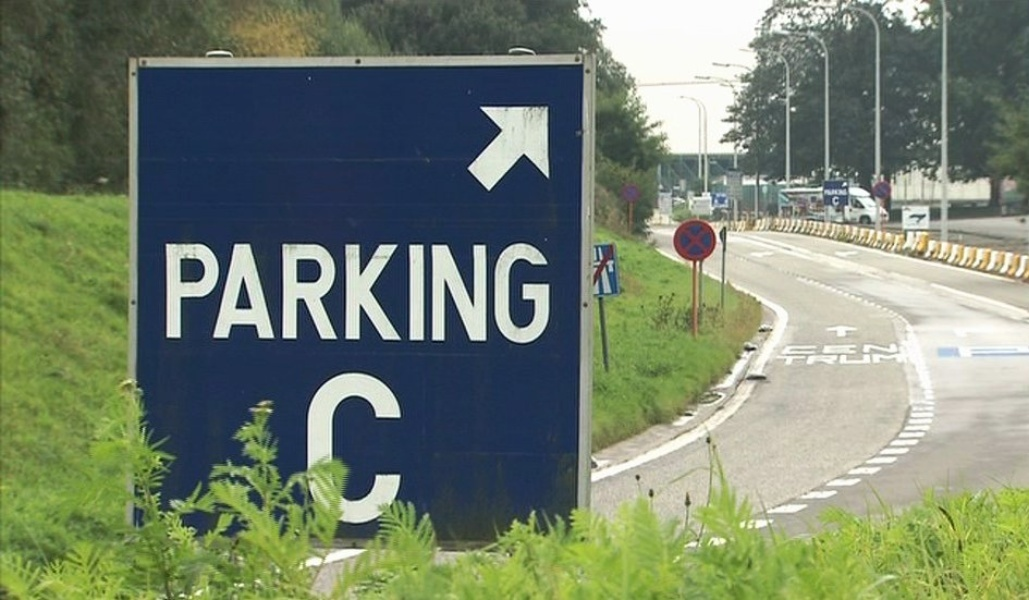text: (321, 371, 336, 524), (337, 371, 352, 524), (353, 371, 368, 524), (369, 371, 384, 524), (385, 371, 400, 524), (306, 371, 320, 524), (177, 241, 192, 345), (193, 241, 208, 345), (209, 241, 224, 345), (225, 241, 240, 345), (241, 241, 256, 345), (257, 241, 272, 345), (273, 241, 288, 345), (289, 241, 304, 345), (305, 241, 320, 345), (321, 241, 336, 345), (337, 241, 352, 345), (353, 241, 368, 345), (369, 241, 384, 345), (385, 241, 400, 345), (401, 241, 416, 345), (417, 241, 432, 345), (433, 241, 448, 345), (449, 241, 464, 345), (465, 241, 480, 345), (481, 241, 496, 345), (497, 241, 512, 345), (513, 241, 528, 345), (529, 241, 544, 345), (162, 241, 176, 345), (545, 241, 553, 345), (961, 344, 976, 363), (977, 344, 992, 363), (993, 344, 1008, 363), (1009, 344, 1024, 363), (785, 340, 800, 355), (801, 340, 816, 355), (817, 340, 832, 355), (833, 340, 848, 355), (849, 340, 864, 355), (865, 340, 880, 355), (881, 340, 896, 355), (785, 351, 800, 366), (801, 351, 816, 366), (817, 351, 832, 366), (833, 351, 848, 366), (849, 351, 864, 366), (865, 351, 880, 366), (881, 351, 896, 366), (401, 371, 402, 524), (833, 189, 849, 198), (776, 351, 784, 366), (897, 351, 904, 366), (955, 344, 960, 363), (823, 189, 832, 198), (833, 197, 841, 207), (897, 340, 901, 355), (782, 340, 784, 355), (1025, 344, 1026, 363), (831, 197, 832, 207)
